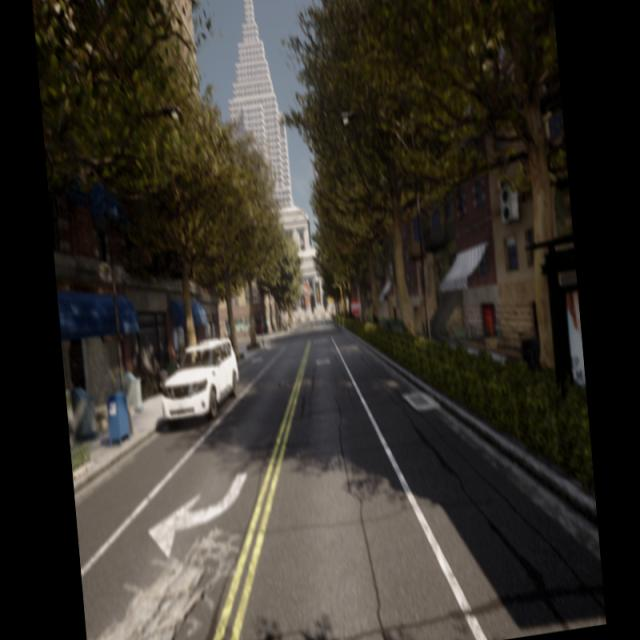stop sign: (348, 294, 362, 319)
